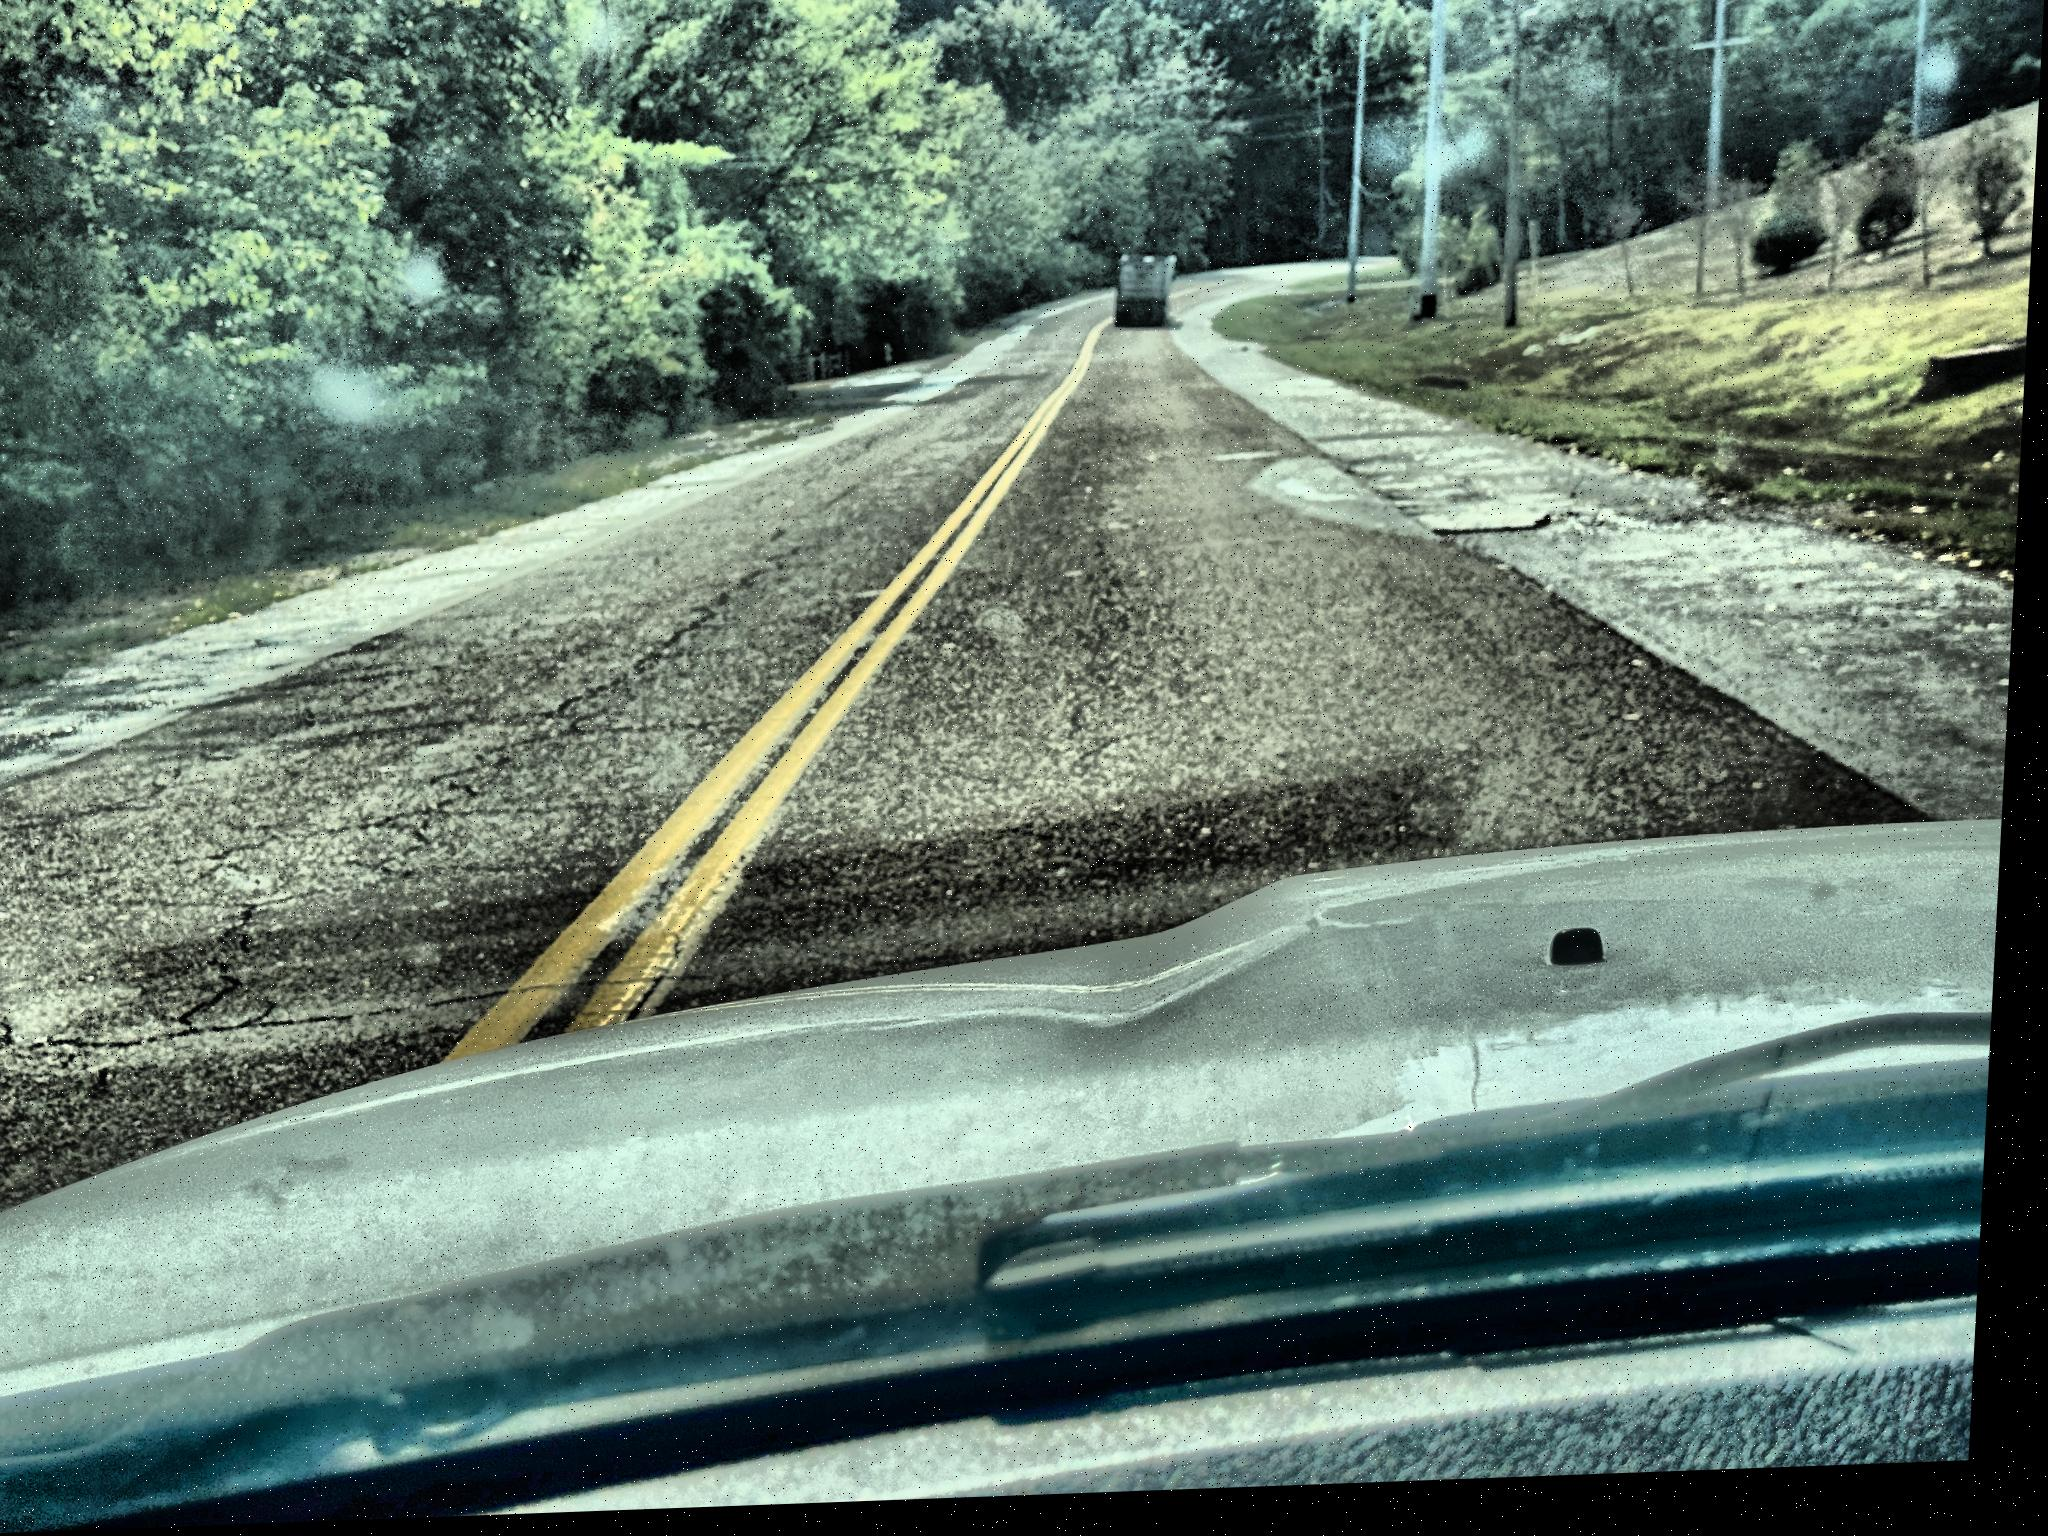pothole: (1441, 509, 1600, 567)
